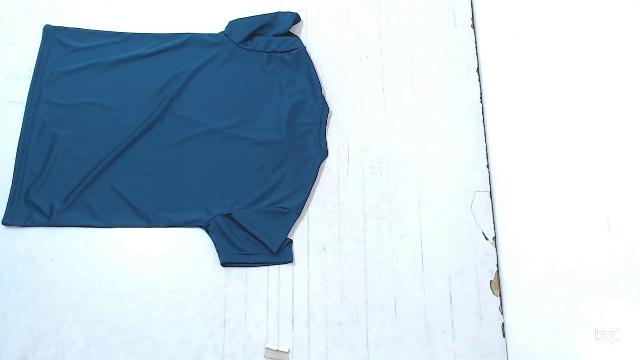new-garment: (2, 12, 329, 266)
